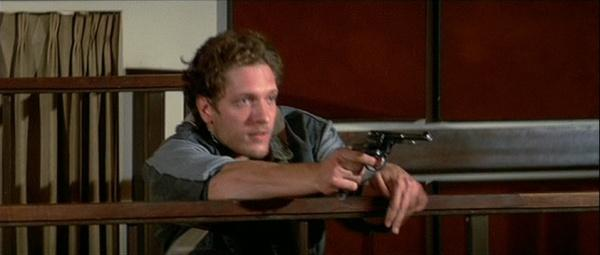Gun: (352, 131, 433, 171)
